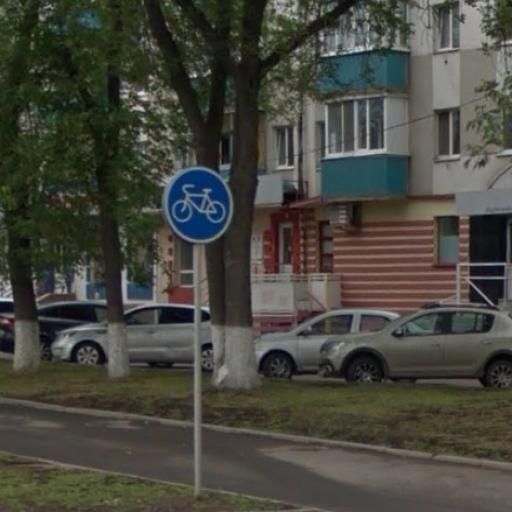traffic_sign: (166, 164, 238, 247)
